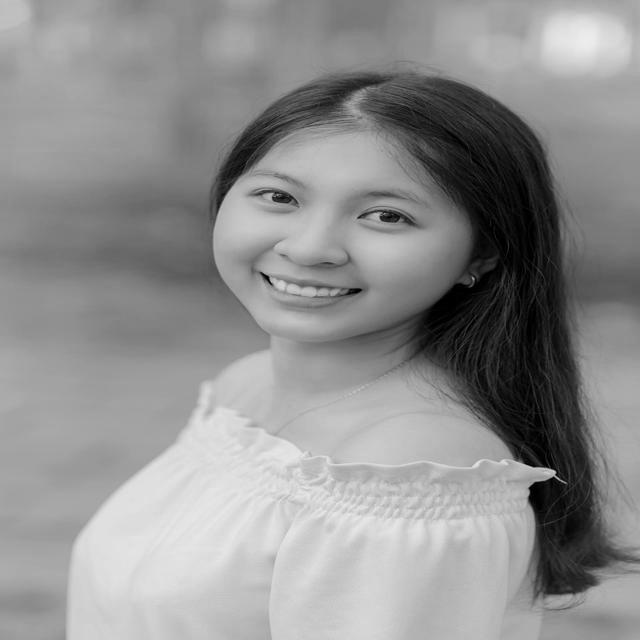Happiness: (210, 130, 462, 345)
